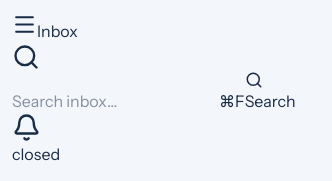
Scenario: V2TopBar › opens real route-scoped search from the top bar
This screenshot has width=332, height=181.
Expected: the text "⌘F" is shown, [219, 91, 245, 111]
What coordinates should you click on to do the following:
click the search field named "Search inbox"
I would click on:
 (116, 101)
Its box is [12, 89, 219, 113].
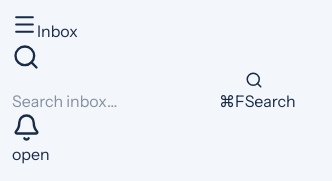
Expected: the text with test id "search-state" reads "open", [12, 144, 50, 164]
